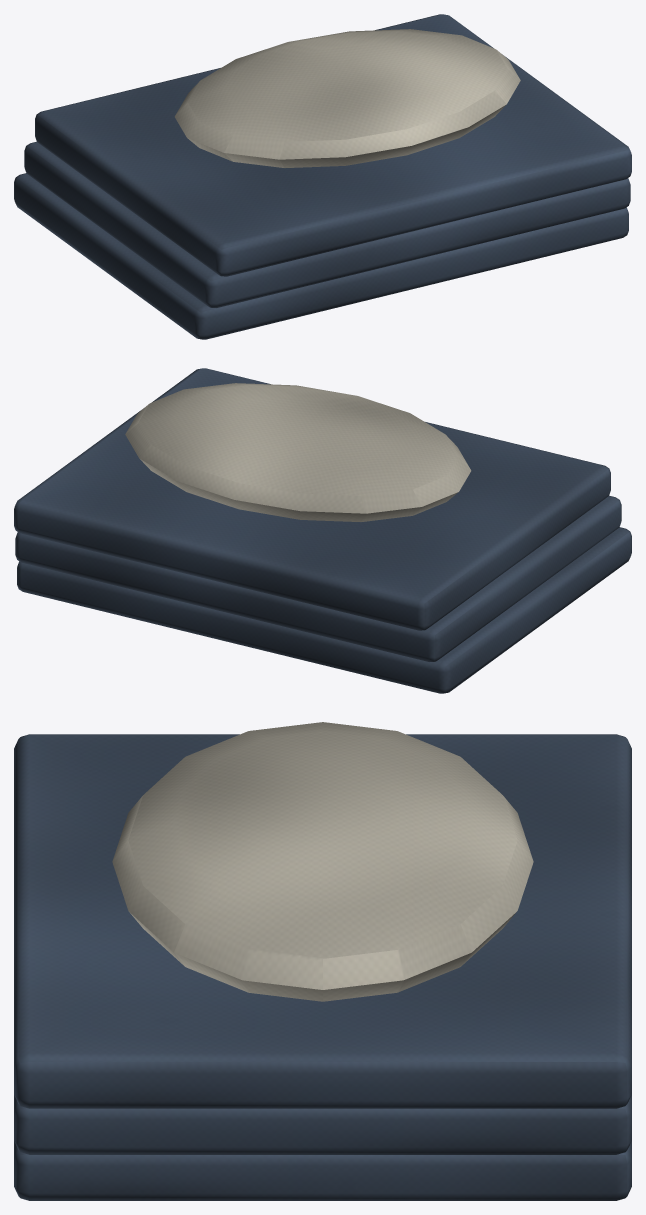
File: Furn_Moment_FoldedBlanket.fbx
3 views of the same model, one above another, from view 1: azimuth 30°, elevation 25°; view 2: azimuth 150°, elevation 25°; view 3: azimuth 270°, elevation 25° (orthographic). The views are drawn at different scales.
Visible parts, largest first — view 1: Furn_Moment_FoldedBlanket; view 2: Furn_Moment_FoldedBlanket; view 3: Furn_Moment_FoldedBlanket.
Part boxes in pixels (x1,y1,x2,y2): Furn_Moment_FoldedBlanket: (14, 14, 631, 339); Furn_Moment_FoldedBlanket: (14, 368, 631, 693); Furn_Moment_FoldedBlanket: (14, 722, 631, 1200).
Bounding box in the file's own units: 0.6 × 0.2 × 0.45.
2 materials, 2 textured.
